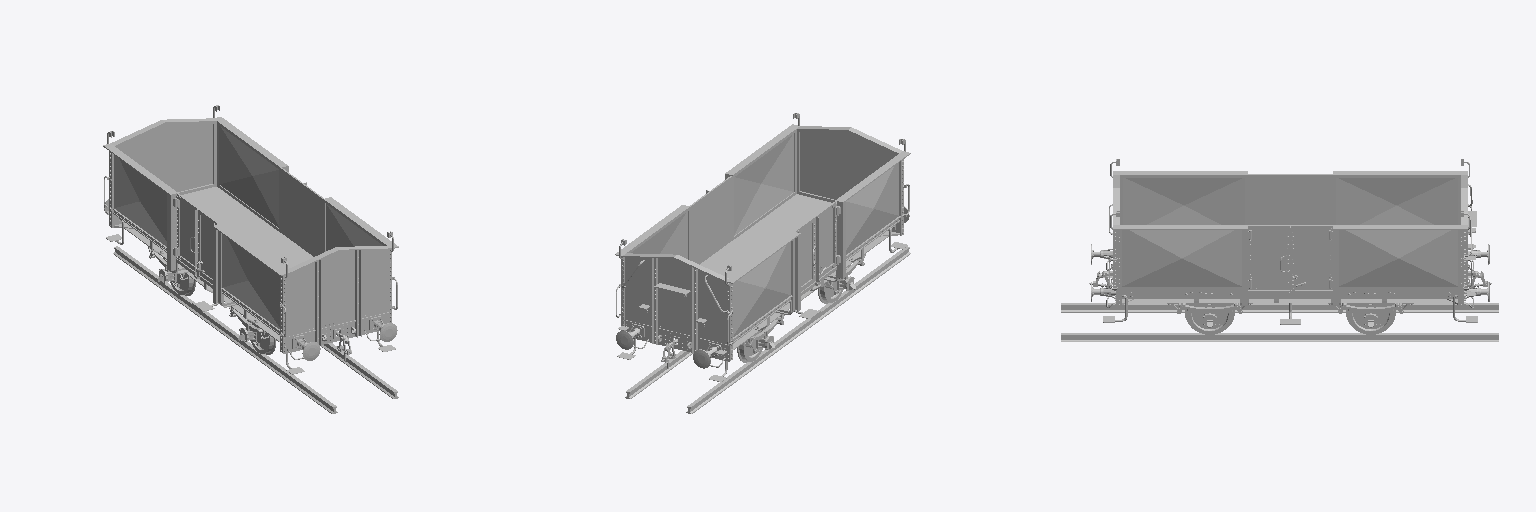
The model's file is x1014_boxcar.obj.
3 views of the same model, side by side, from view 1: azimuth 30°, elevation 25°; view 2: azimuth 150°, elevation 25°; view 3: azimuth 270°, elevation 25° (orthographic).
Parts seen in each view (by area): view 1: Boxcar_body, Track, Boxcar_door_lock, Boxcar_door; view 2: Boxcar_body, Track, Boxcar_door_lock, Boxcar_door; view 3: Boxcar_body, Track, Boxcar_door_lock, Boxcar_door, Wheels1, Wheels2.
Part boxes in pixels (x1,y1,x2,y2): Boxcar_body: (103,105,398,374); Track: (113,246,398,413); Boxcar_door_lock: (195,168,306,283); Boxcar_door: (176,183,323,270); Boxcar_body: (615,113,910,381); Track: (625,246,910,413); Boxcar_door_lock: (690,190,836,281); Boxcar_door: (711,176,815,291); Boxcar_body: (1091,159,1489,327); Track: (1061,303,1498,341); Boxcar_door_lock: (1248,174,1332,291); Boxcar_door: (1248,174,1332,289); Wheels1: (1185,303,1234,334); Wheels2: (1346,303,1395,334).
Bounding box in the file's own units: 116 × 132 × 373.